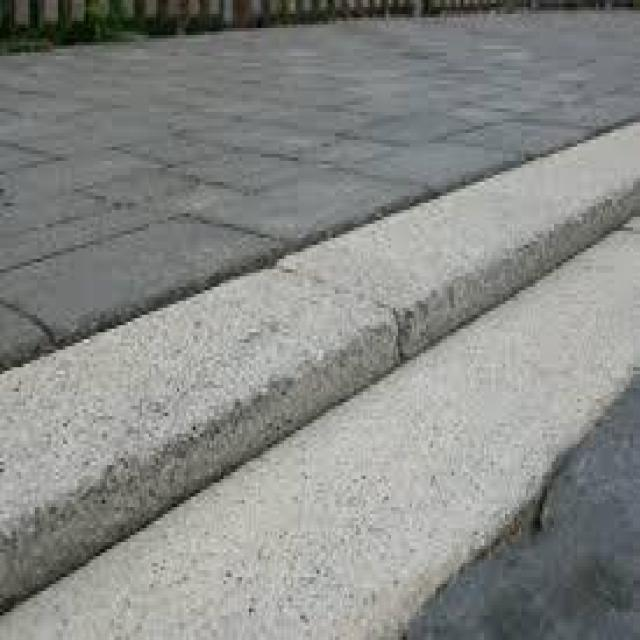curb: (4, 112, 640, 603)
